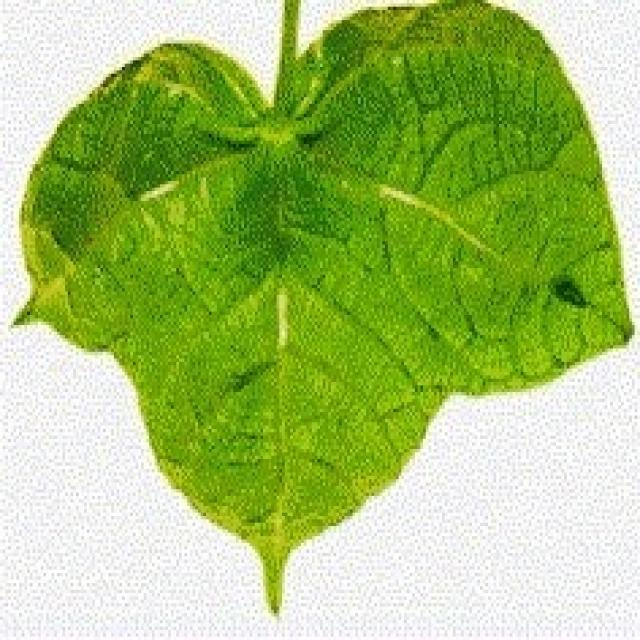Leaf Curl Virus: (124, 130, 454, 393)
